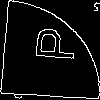P: (25, 24, 77, 63)
